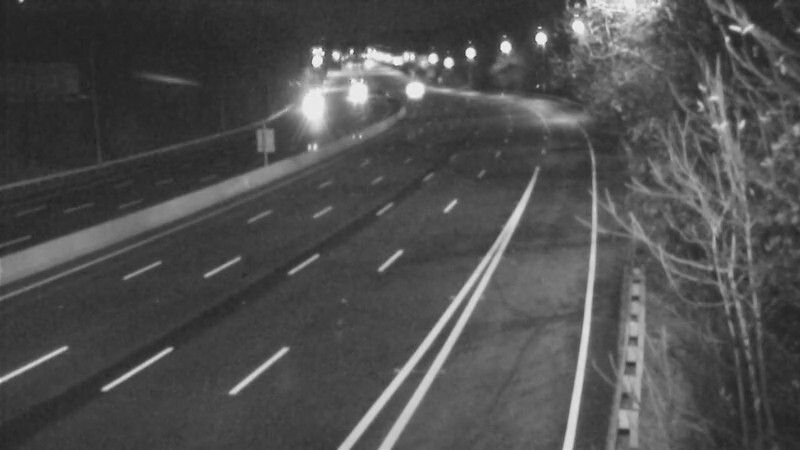vehicle: (392, 65, 442, 115), (286, 80, 336, 130), (330, 70, 380, 120)
